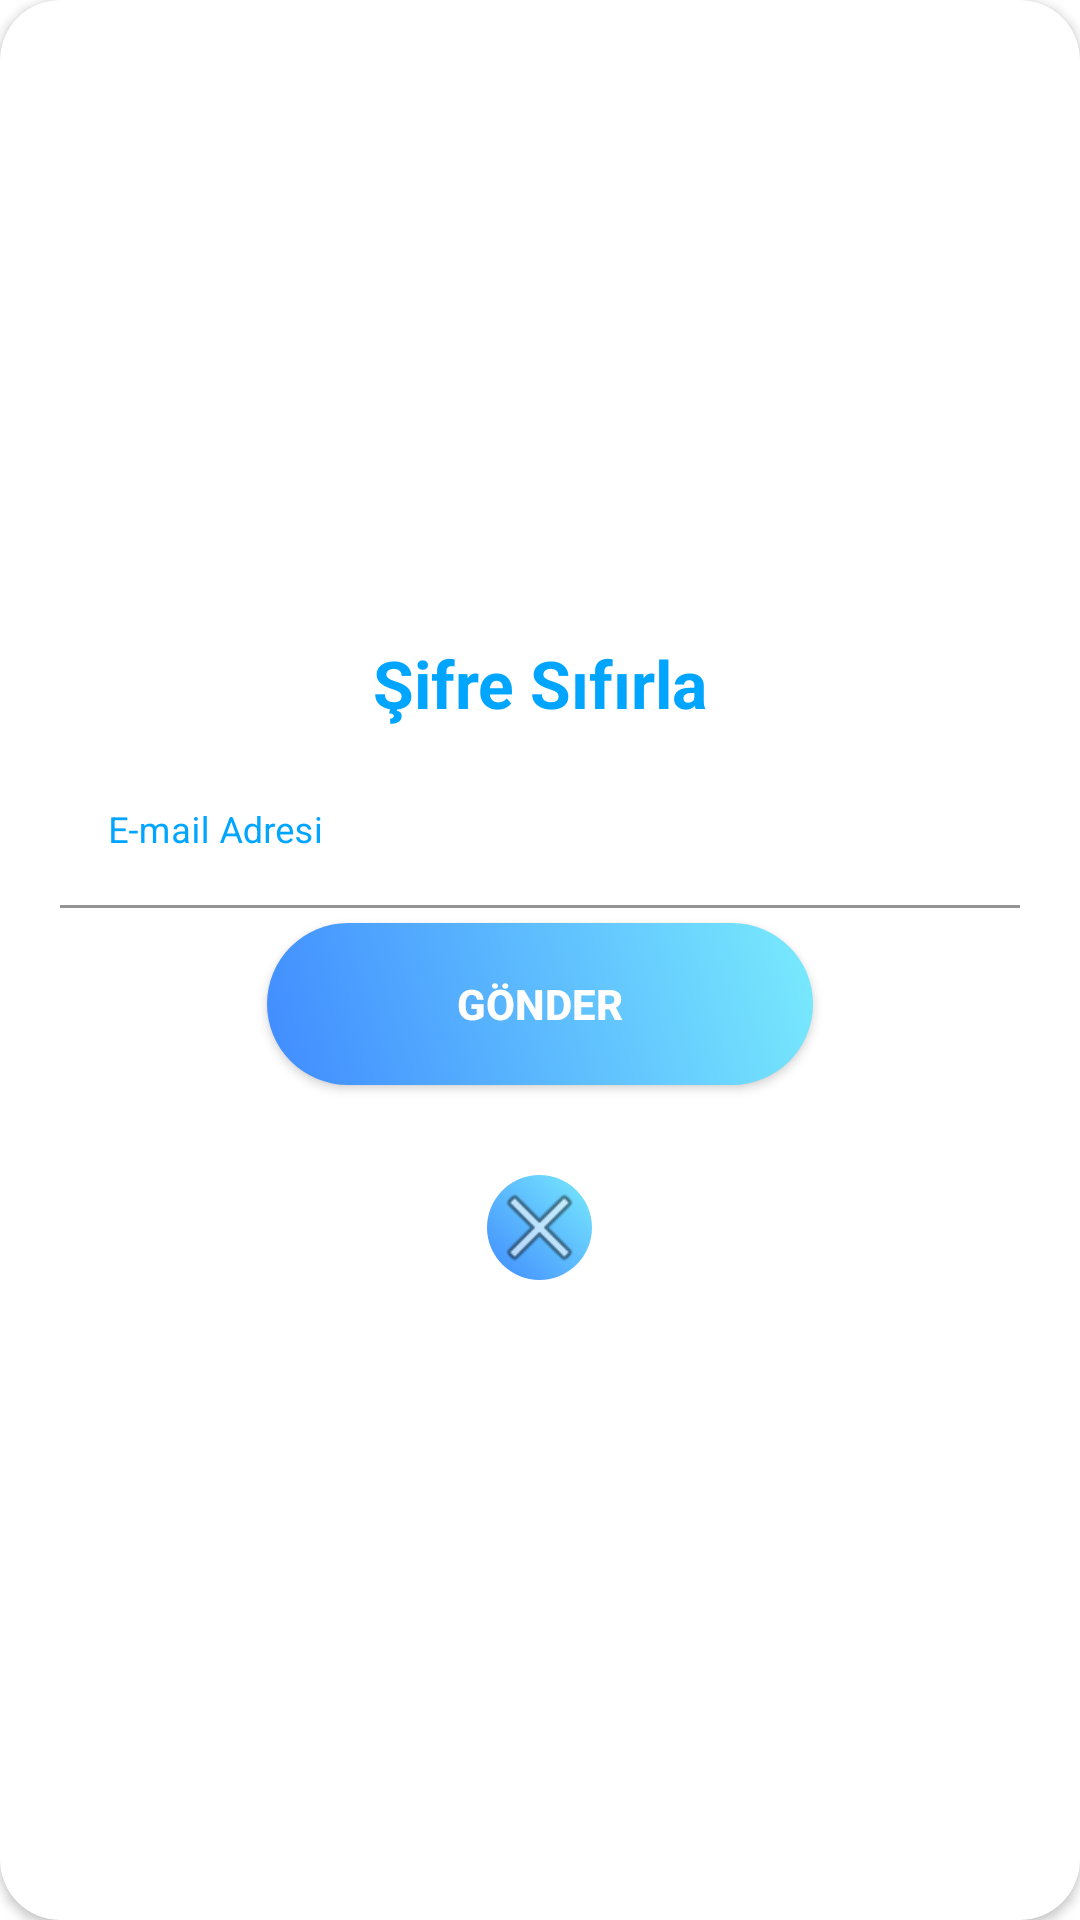

Icons on this 1080*1920 Android screen, each with the point to tap as (x=x, y=y):
close clear cancel: (x=539, y=1227)
